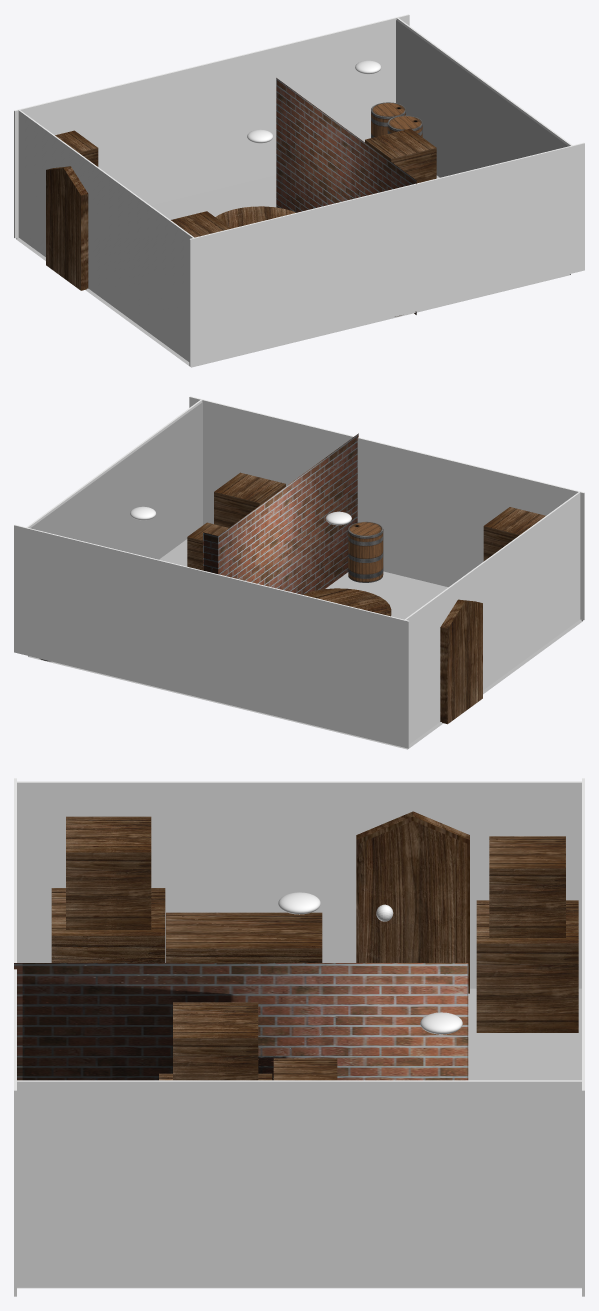
Rendered from room1_ver2.gltf.
The picture shows the model from 3 angles, top to bottom: view 1: azimuth 30°, elevation 25°; view 2: azimuth 150°, elevation 25°; view 3: azimuth 270°, elevation 25°; orthographic projection. The views are drawn at different scales.
Visible parts, largest first — view 1: Wall_Block_2, Wall_Block_1, Wall_Block_4, Room, Wall, Door, Floor, BoxS1, Table, BoxS1.001, Barrel0, Wall_Block_3 (+2 smaller); view 2: Wall_Block_1, Wall_Block_2, Wall_Block_4, Room, Wall, Door, Floor, BoxS1, Barrel2, BoxS1.001, Table, BoxS0 (+1 smaller); view 3: Wall_Block_3, Wall_Block_4, Wall, Door, Box2.002, BoxS1.001, Box2.001, BoxS1.002, BoxS1, Floor, Box2, Wall_Block_1 (+5 smaller).
Boxes of the visible parts, box(x1,y1,x2,y2) form: Wall_Block_2: box(189, 142, 584, 366); Wall_Block_1: box(14, 14, 409, 238); Wall_Block_4: box(18, 109, 194, 361); Room: box(16, 20, 570, 367); Wall: box(276, 78, 416, 314); Door: box(46, 166, 88, 290); Floor: box(17, 174, 439, 363); BoxS1: box(365, 128, 436, 183); Table: box(215, 206, 296, 228); BoxS1.001: box(171, 211, 230, 237); Barrel0: box(371, 102, 405, 137); Wall_Block_3: box(396, 17, 572, 146); Wall_Block_1: box(14, 524, 409, 748); Wall_Block_2: box(189, 396, 584, 620); Wall_Block_4: box(405, 491, 580, 743); Room: box(28, 402, 582, 749); Wall: box(203, 433, 358, 594); Door: box(440, 599, 482, 724); Floor: box(159, 539, 581, 745); BoxS1: box(214, 472, 285, 527); Barrel2: box(348, 521, 383, 582); BoxS1.001: box(483, 507, 545, 561); Table: box(302, 588, 391, 616); BoxS0: box(187, 522, 228, 570); Wall_Block_3: box(15, 1080, 582, 1287); Wall_Block_4: box(15, 781, 583, 988); Wall: box(14, 963, 468, 1080); Door: box(356, 811, 469, 993); Box2.002: box(476, 900, 578, 1032); BoxS1.001: box(66, 816, 151, 929); Box2.001: box(166, 912, 322, 962); BoxS1.002: box(489, 836, 565, 937); BoxS1: box(173, 1002, 258, 1080); Floor: box(468, 988, 581, 1080); Box2: box(51, 888, 165, 962); Wall_Block_1: box(582, 778, 584, 1296).
Size of the model in its own units: 26.23 by 8.5 by 20.1.
